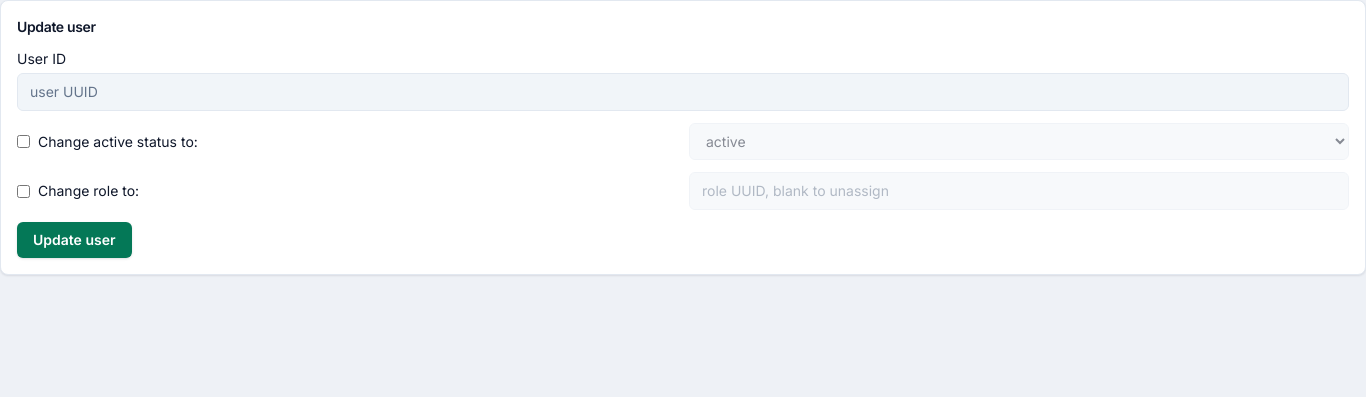
Test: UpdateUserForm › renders the updated user on success
In the field labelled "User ID": (683, 92) x1=17 y1=73 x2=1349 y2=111, type "u-1"
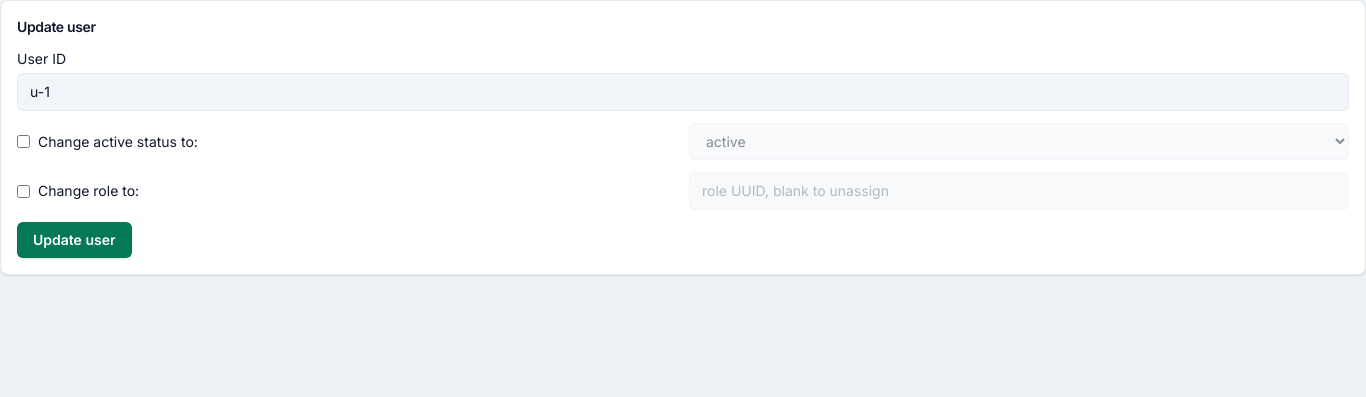
Click the checkbox labelled "Change active status to:": click(24, 142) x1=17 y1=135 x2=30 y2=148
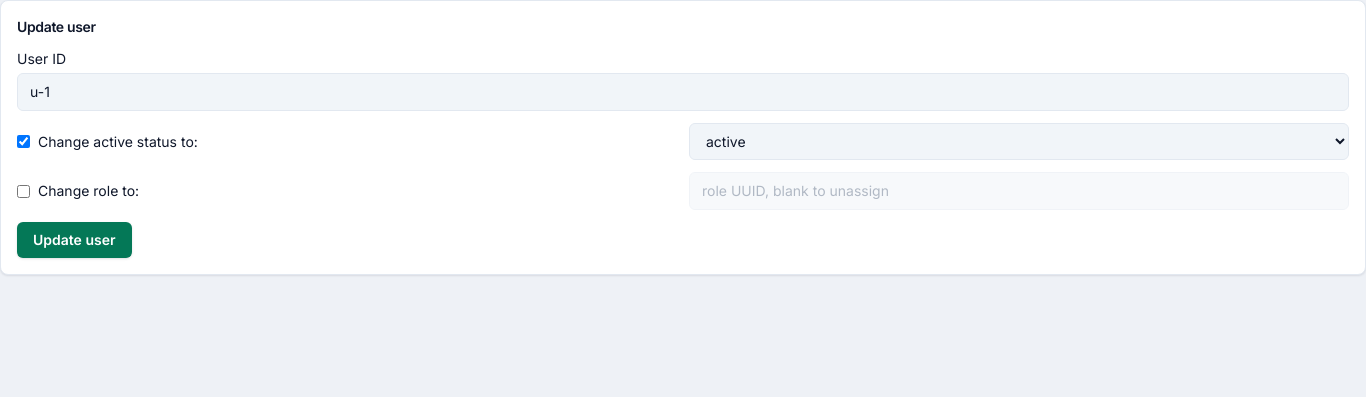
Click the button "Update user": click(74, 240) x1=17 y1=222 x2=132 y2=258
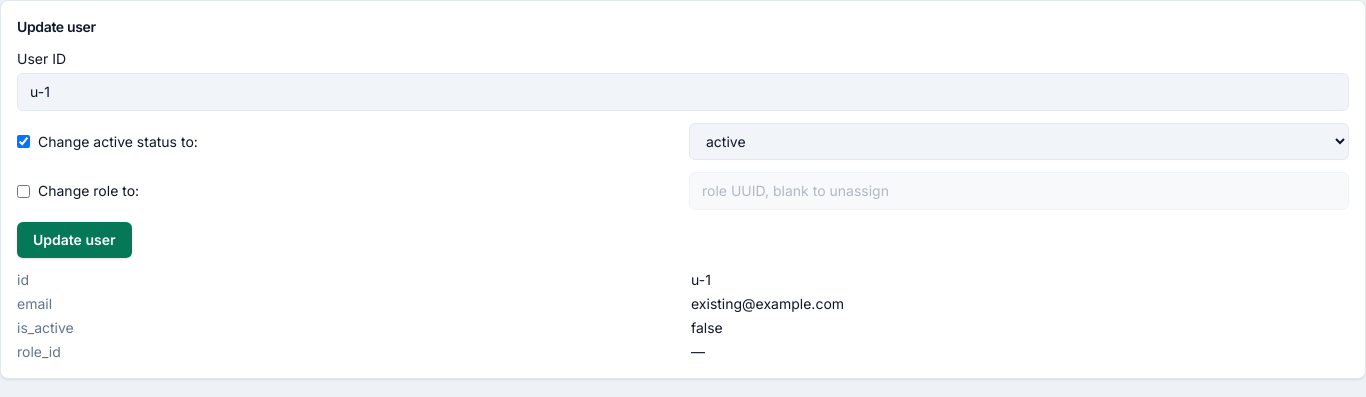
Check: the text "false" is shown, box x1=691 y1=319 x2=723 y2=336
